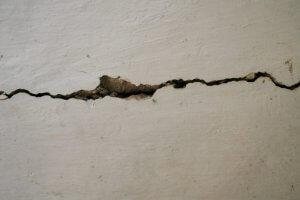Crack: (0, 67, 300, 104)
